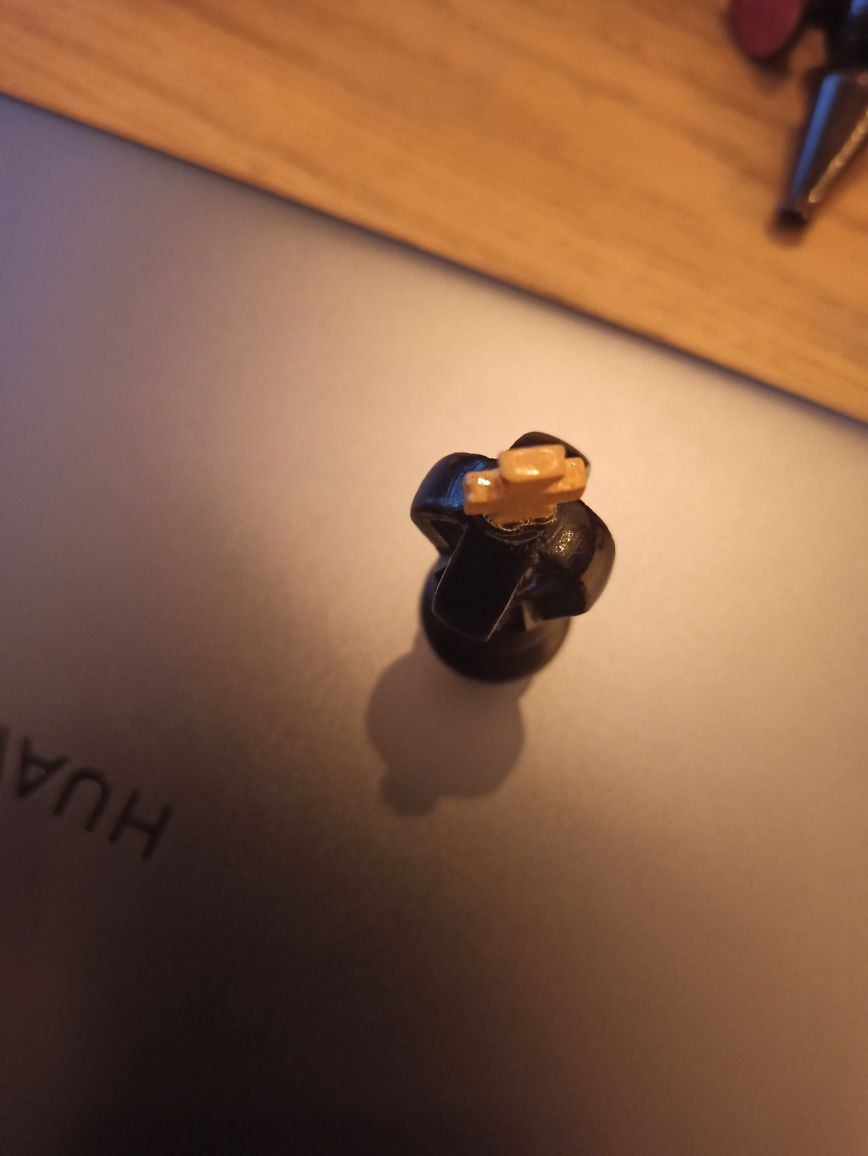bking: (409, 430, 618, 682)
